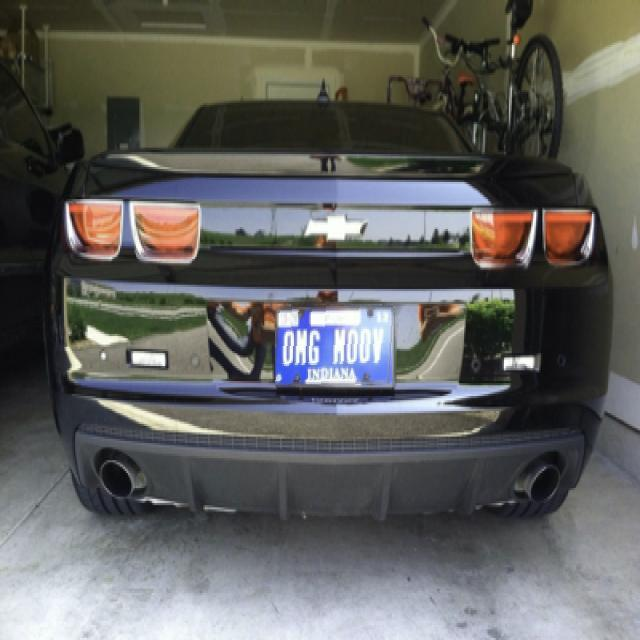licence: (275, 304, 394, 387)
